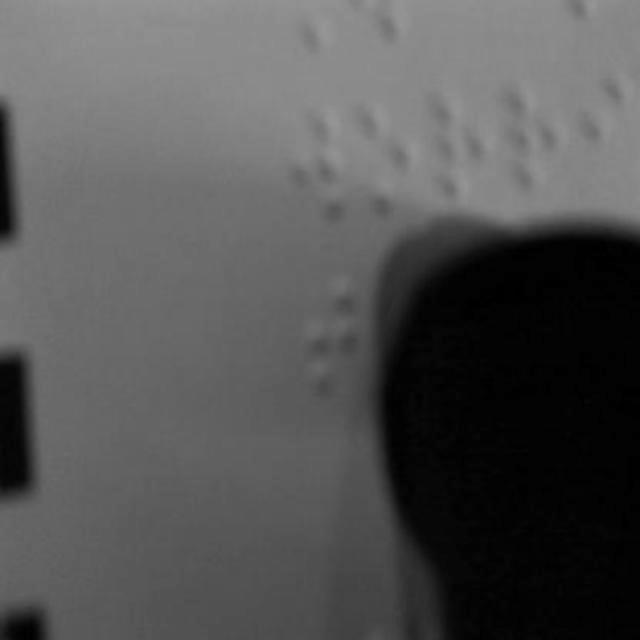braiile: (504, 69, 576, 205), (284, 94, 350, 236), (351, 87, 423, 217), (296, 263, 359, 403), (431, 72, 495, 208)
